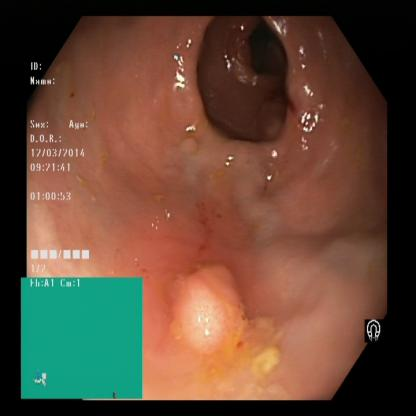Labels: (27, 47, 102, 278), (21, 276, 142, 396), (362, 306, 390, 350)
Polyps: (167, 249, 274, 368)
